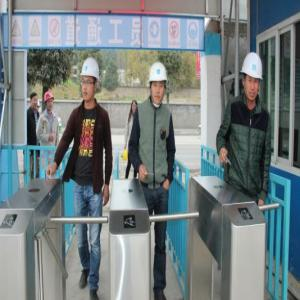none: (31, 91, 39, 110), (131, 100, 138, 115)
red: (44, 91, 55, 111)
white: (241, 53, 265, 103), (81, 56, 101, 106), (150, 63, 168, 108)
